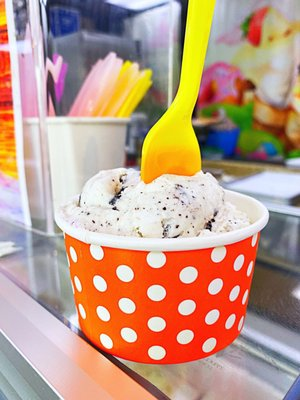pizza: (56, 173, 271, 369)
